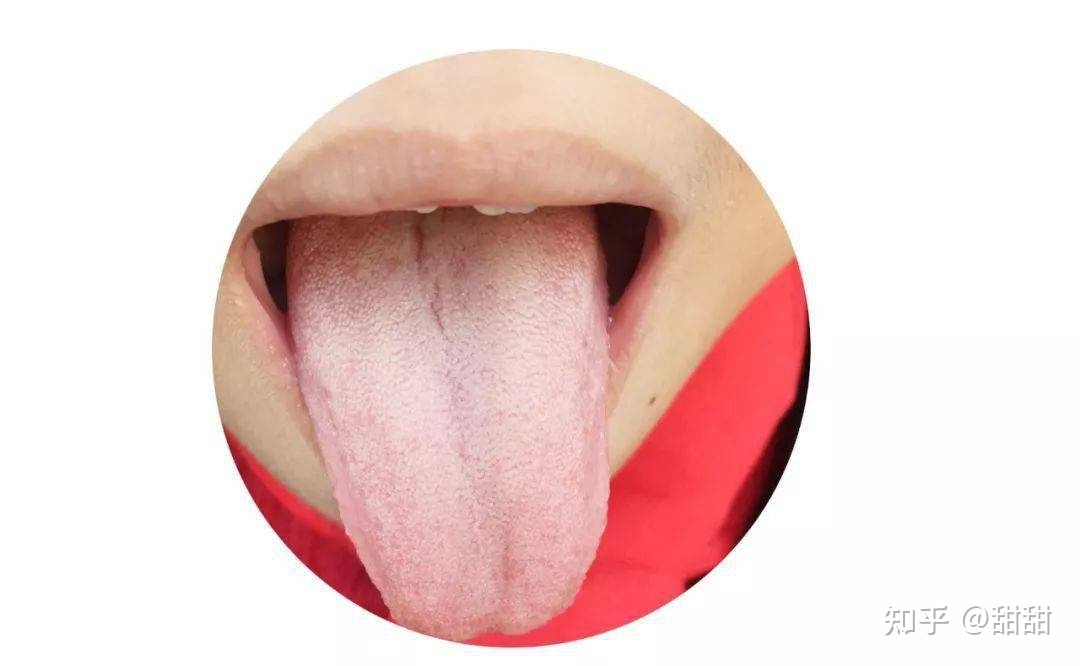baitaishe: (285, 219, 612, 642)
xinfeiao: (458, 612, 526, 643)
